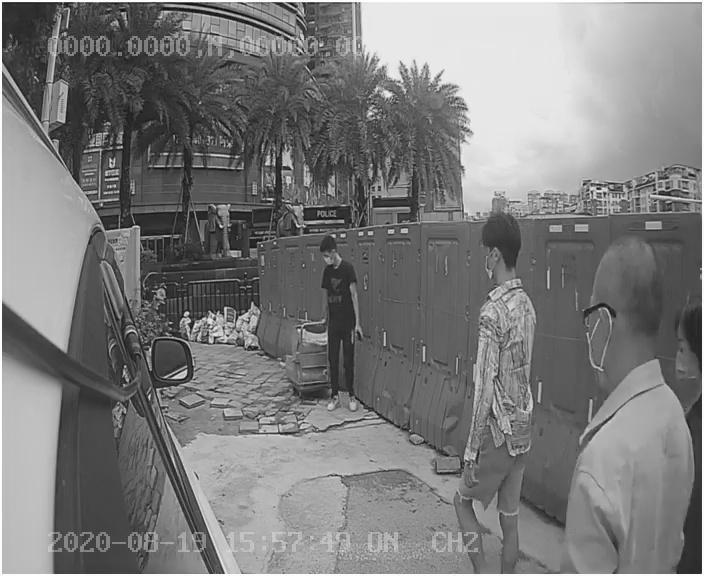person: (438, 216, 544, 515), (311, 233, 377, 416)
